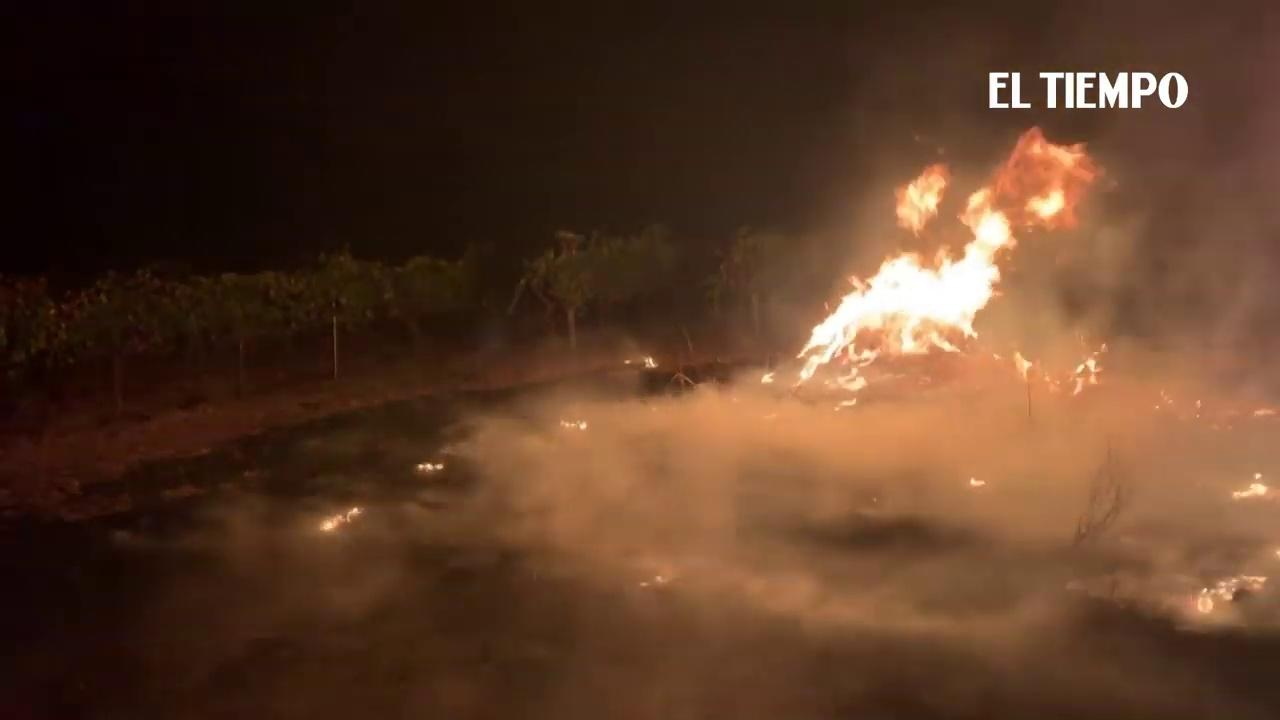Fire: (765, 129, 1113, 411), (1198, 574, 1267, 610), (1233, 472, 1275, 502), (320, 506, 364, 532), (415, 459, 449, 475), (564, 416, 592, 431), (968, 475, 990, 487), (646, 355, 659, 368)
